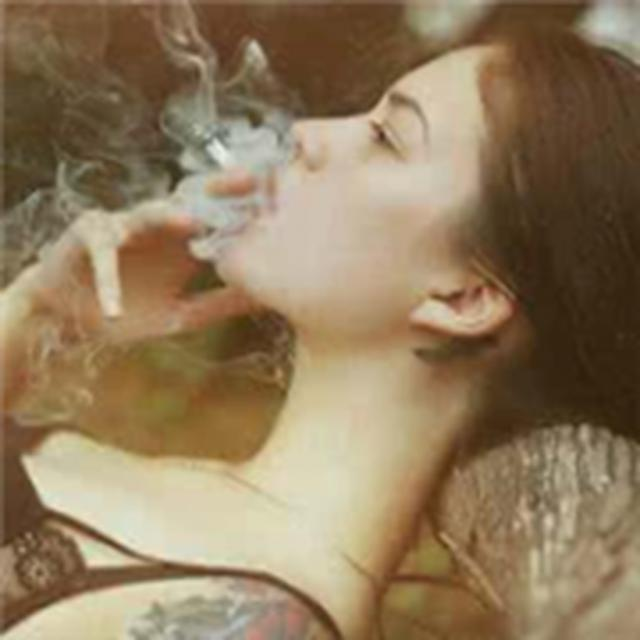smoking: (31, 12, 600, 381)
